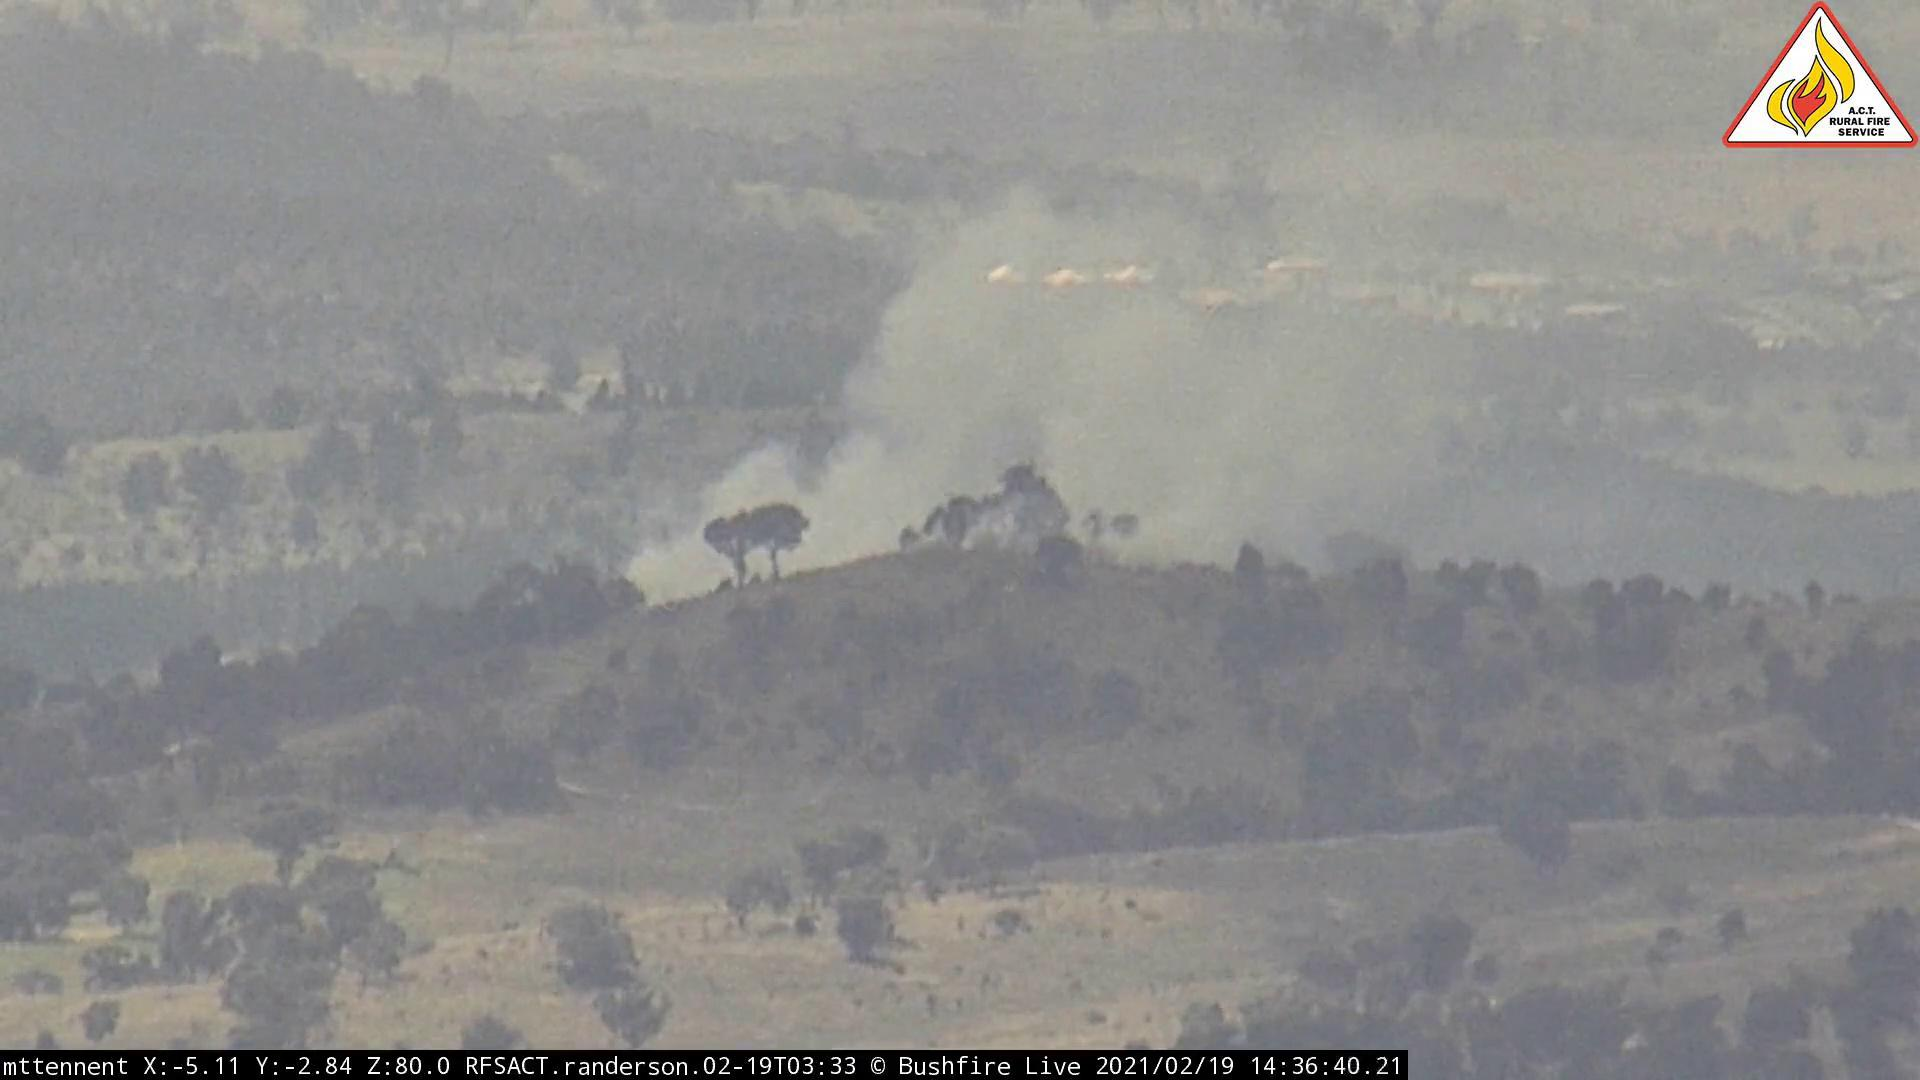instance_salient_object: (629, 105, 1578, 609)
